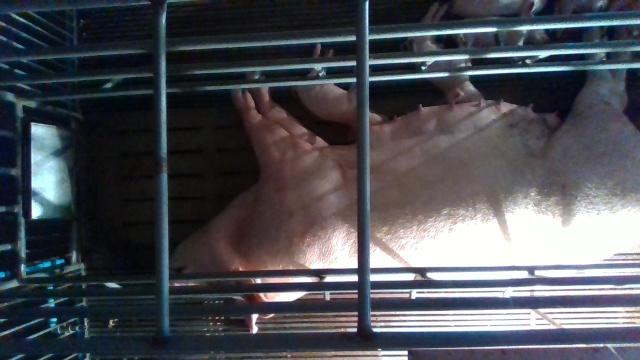piglet: (295, 43, 388, 129), (410, 5, 486, 103)
sow-sleep-lactate: (171, 53, 640, 333)
